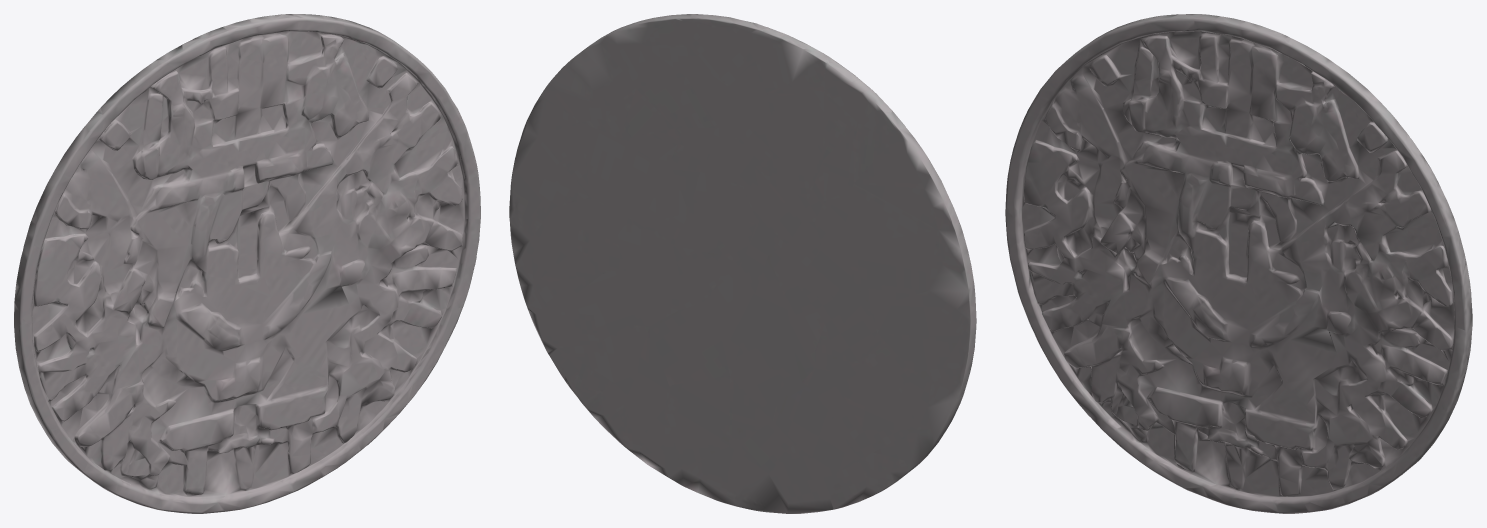
The picture shows the model from 3 angles, left to right: view 1: azimuth 30°, elevation 25°; view 2: azimuth 150°, elevation 25°; view 3: azimuth 330°, elevation 25°; orthographic projection.
Size of the model in its own units: 1.9 by 1.9 by 0.0492.
Materials: 1 (1 with a texture image).
